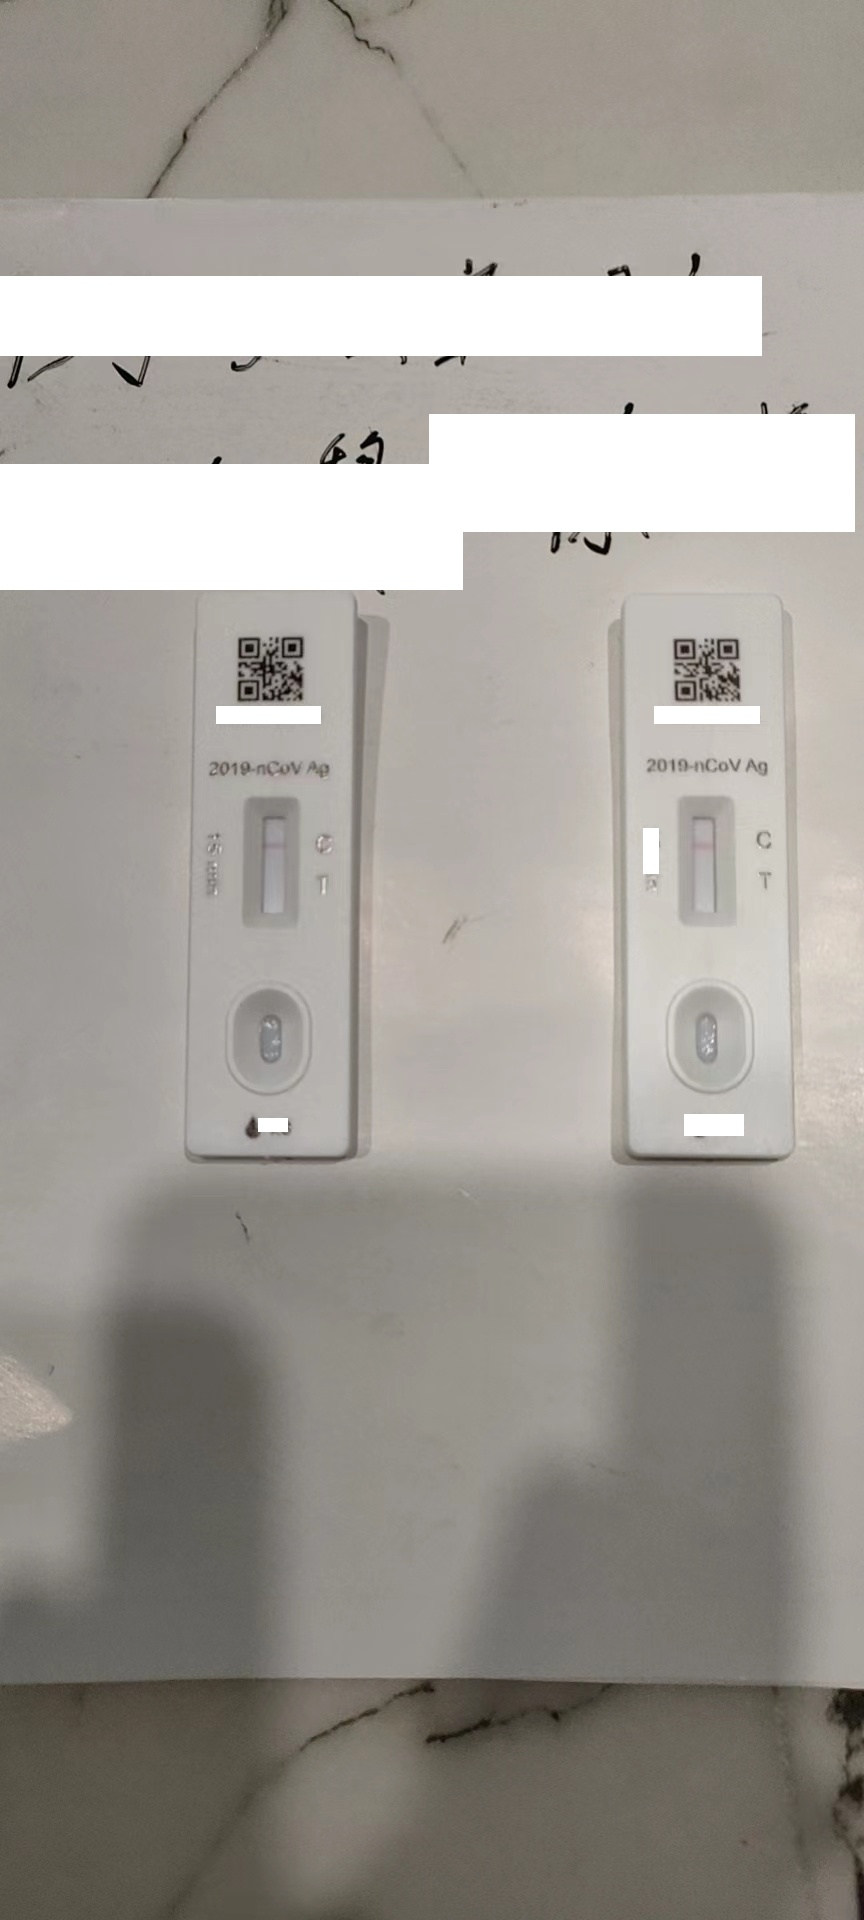negative: (245, 796, 299, 927), (679, 796, 733, 924)
